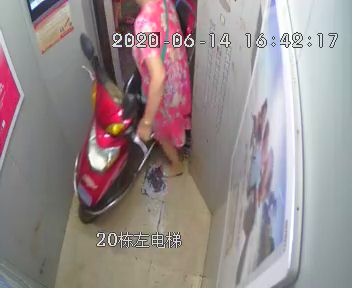Electric-bicycle: (71, 33, 144, 221)
